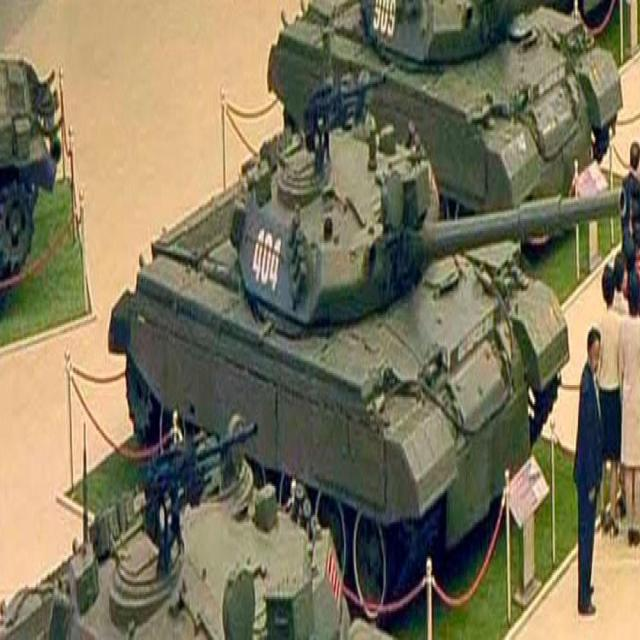north tank: (112, 67, 574, 636), (257, 0, 640, 308), (0, 436, 365, 640), (0, 2, 106, 377)
